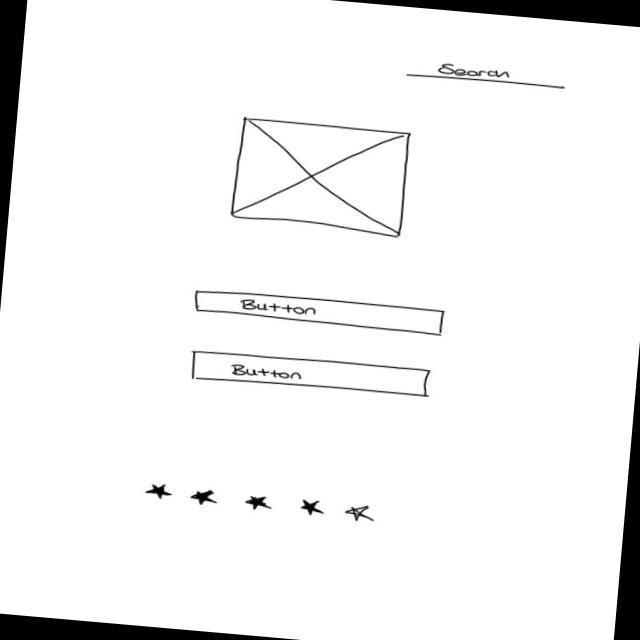button: (189, 347, 434, 403), (192, 288, 447, 339)
image: (228, 115, 413, 240)
input: (404, 58, 568, 93)
